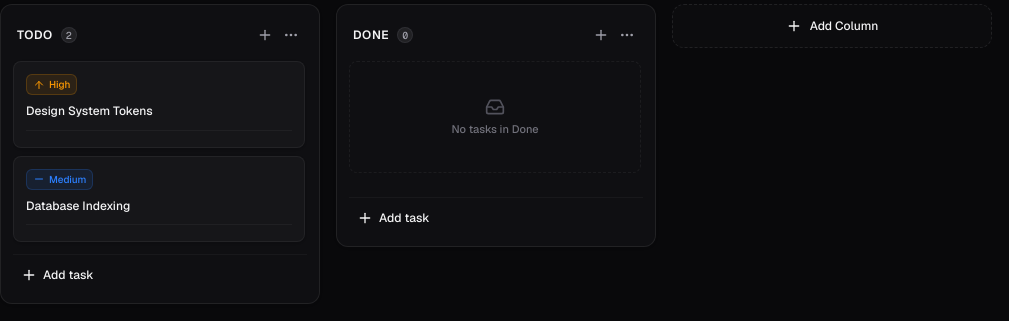
Scenario: Kanban Drag-and-Drop Frontend Components › KanbanBoard Component › appends task optimistically when created via QuickAddTask
Click the button with test id "quick-add-btn-col-done" at (404, 218), box [349,202,643,234]
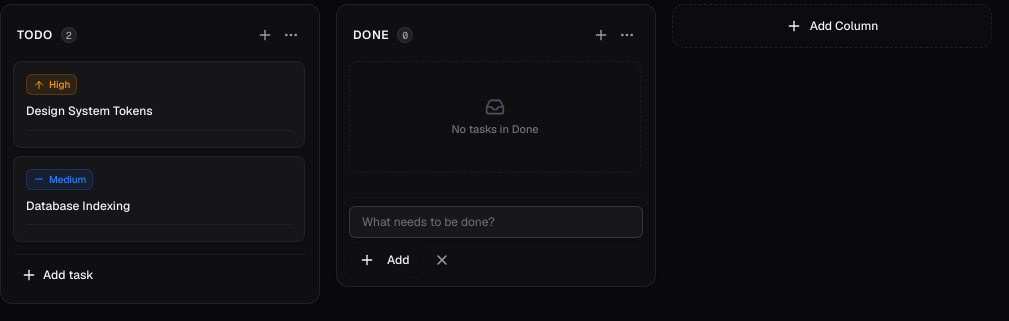
Type "Verify test reports" into the field with placeholder "What needs to be done?" at (496, 222), box [349,206,643,238]
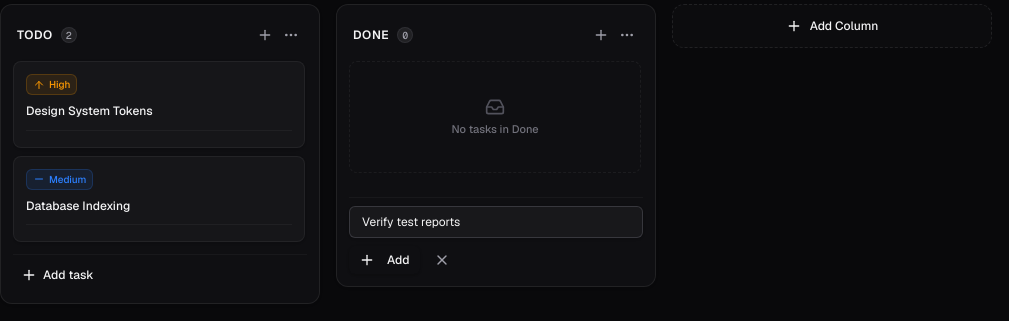
Click the button with test id "quick-add-submit" at (384, 260), box [349,246,420,274]
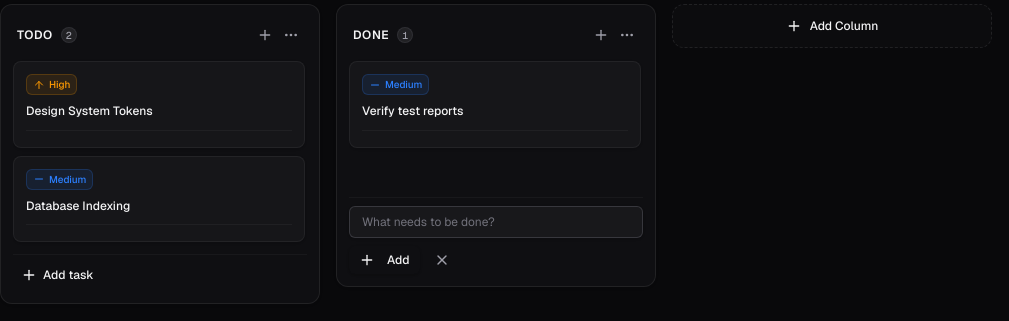
Result: the heading "Verify test reports" is shown at [362,103,464,119]
